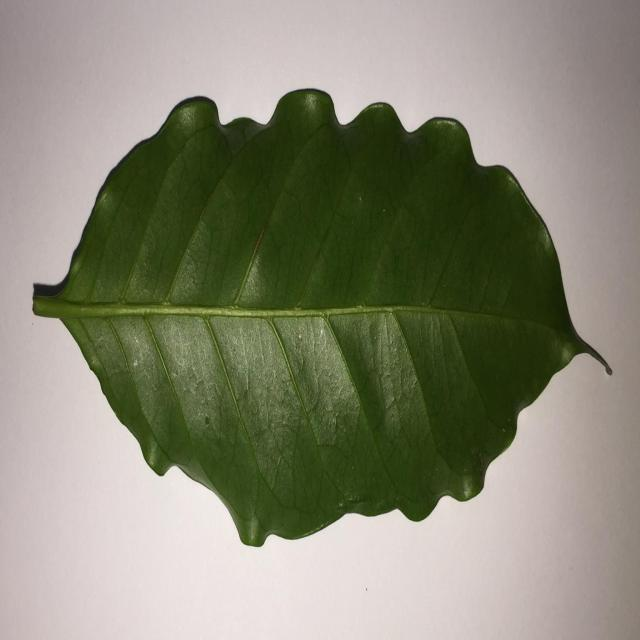Sanas: (32, 89, 612, 551)
